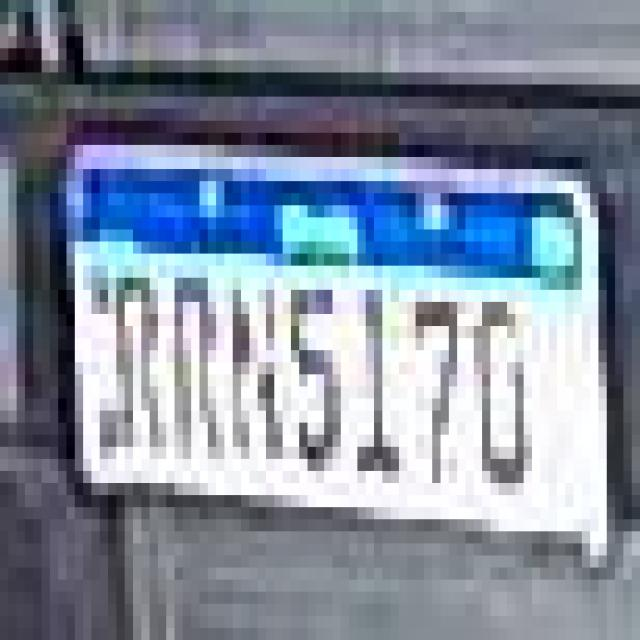0: (470, 294, 536, 487)
5: (287, 280, 343, 474)
7: (411, 294, 466, 483)
I: (349, 287, 411, 488)
N: (225, 276, 287, 468)
R: (171, 266, 223, 462), (118, 273, 170, 448)
